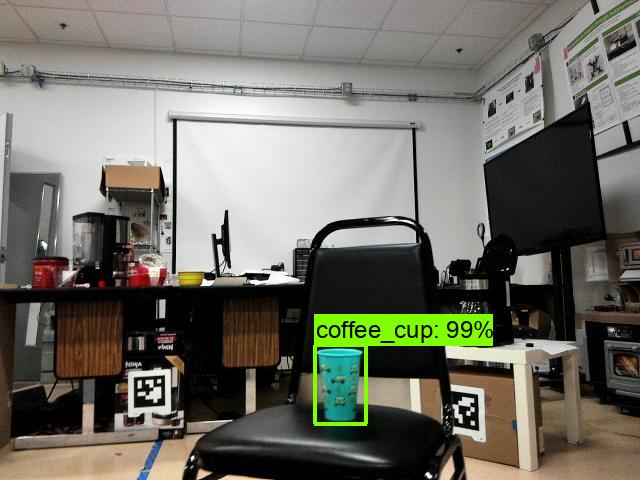coffee_cup: (312, 346, 366, 422)
